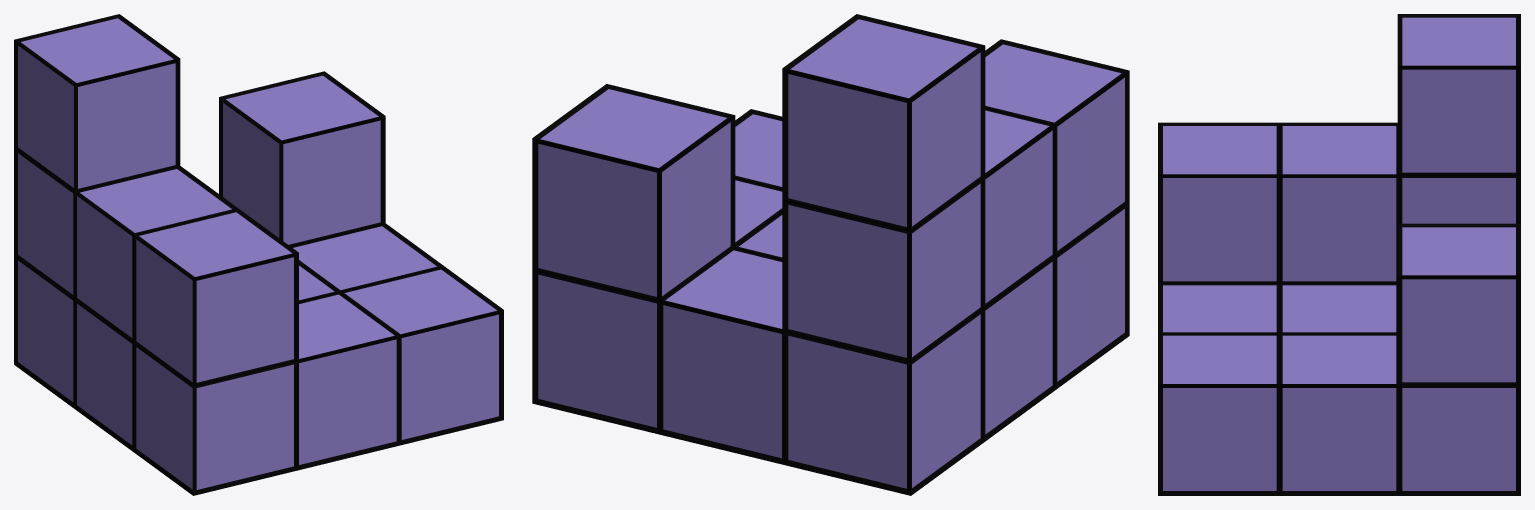
Rendered from Angabe - 2.fbx.
3 renders of one model, left to right at view 1: azimuth 30°, elevation 25°; view 2: azimuth 150°, elevation 25°; view 3: azimuth 270°, elevation 25°, orthographic. The views are drawn at different scales.
Parts seen in each view (by area): view 1: Angabe1:Mesh; view 2: Angabe1:Mesh; view 3: Angabe1:Mesh.
Part boxes in pixels (box(x1,y1,x2,y2)): Angabe1:Mesh: box(14, 14, 503, 495); Angabe1:Mesh: box(532, 14, 1129, 495); Angabe1:Mesh: box(1158, 14, 1520, 495).
Bounding box in the file's own units: 6.06 × 6.06 × 6.06.
